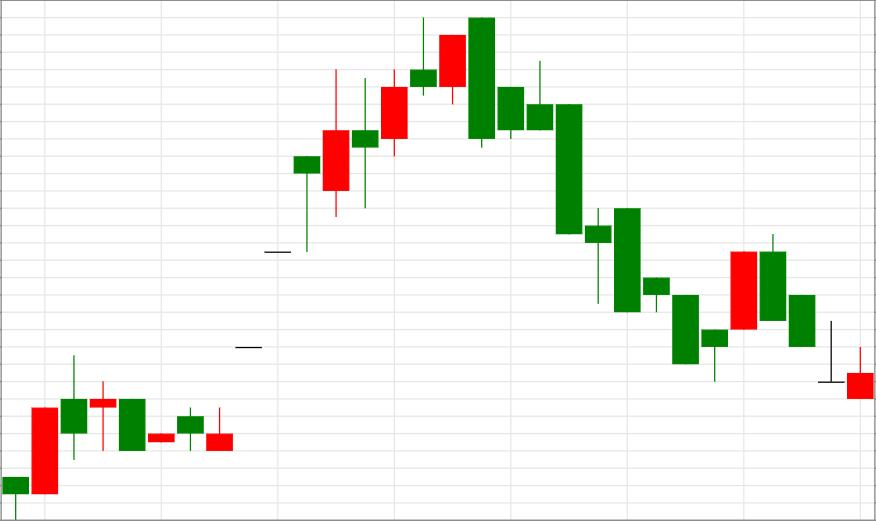bearish_engulfing_fall: (295, 18, 495, 252)
